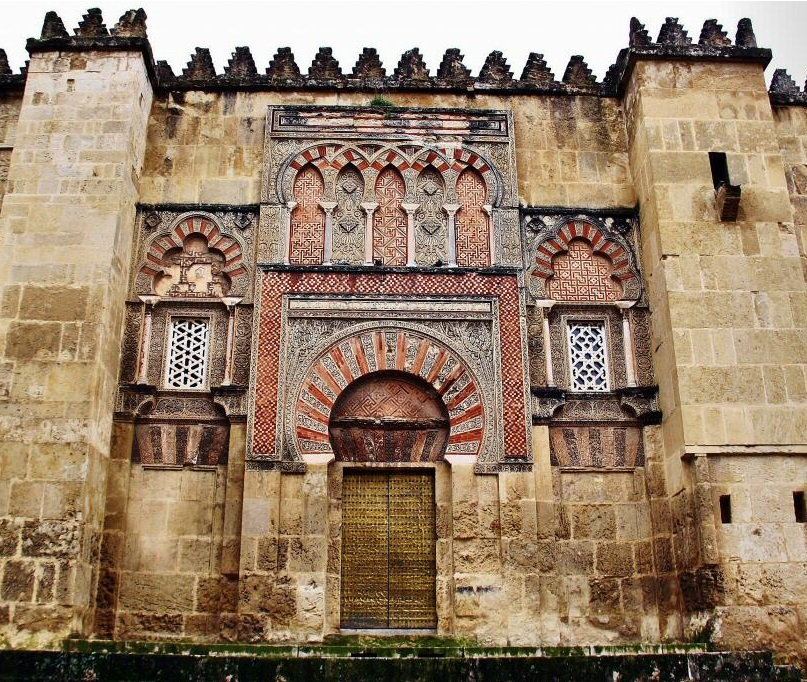arco-herradura: (317, 361, 464, 471), (412, 148, 495, 218), (326, 151, 411, 216), (370, 150, 453, 216), (286, 154, 368, 211)
arco-lobulado: (146, 228, 237, 304), (541, 232, 628, 308)
dintel-adovelado: (332, 425, 448, 463), (135, 423, 230, 467), (550, 425, 643, 468)
